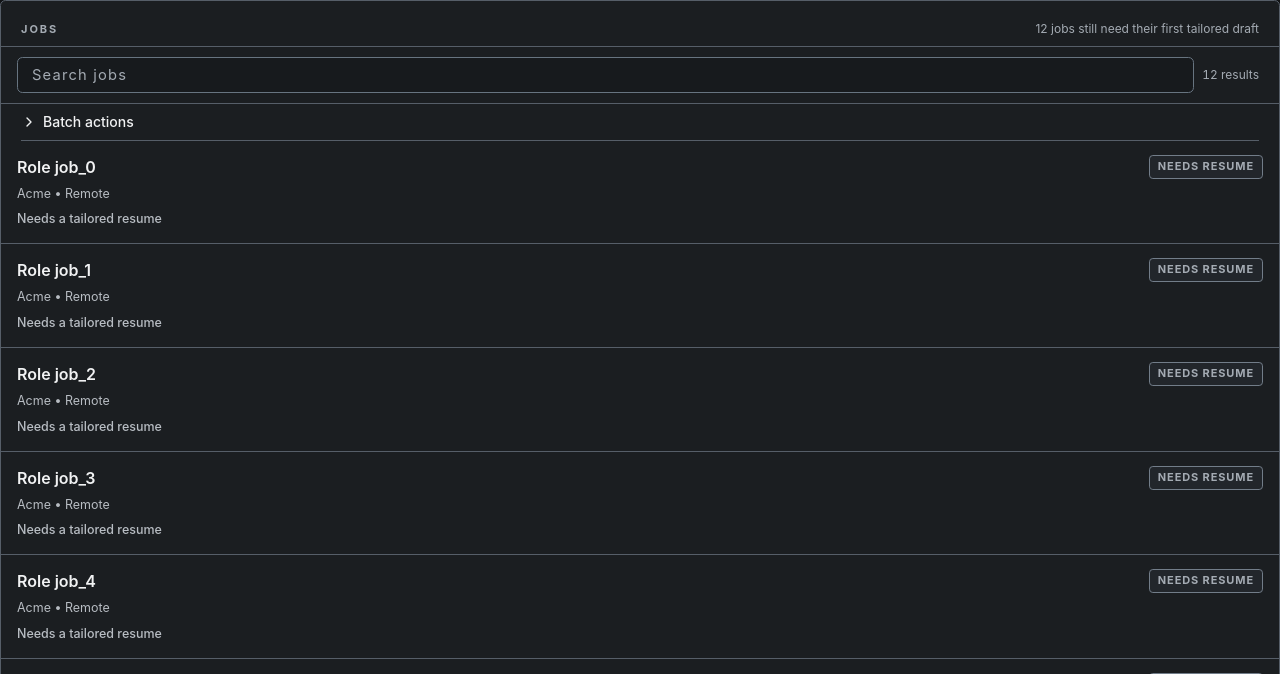
Test: ReviewQueueListPanel › discloses the ten-job batch cap and the list-order remainder before running
Click the heading "Batch actions" at x=77, y=121, box [21,112,134,130]
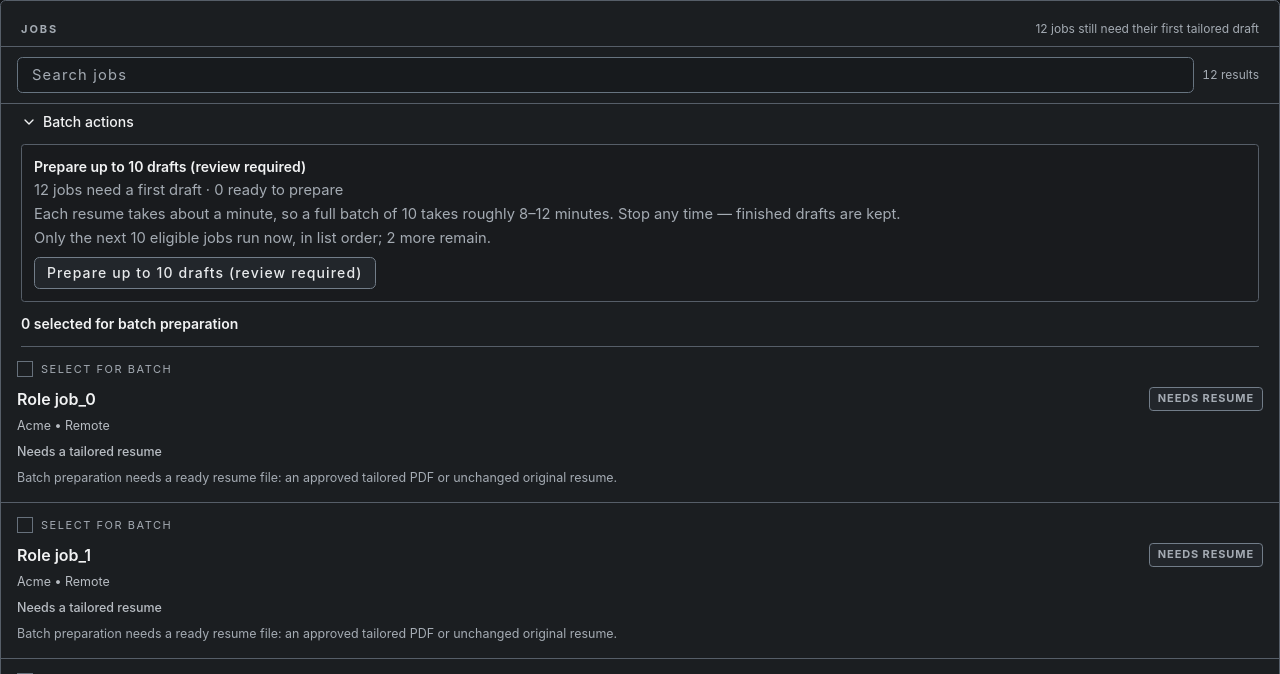
Now the text "12 jobs need a first draft · 0 ready to prepare" is shown, box [34,180,343,198]
Now the button "Prepare up to 10 drafts (review required)" is shown, box [34,257,376,289]
Now the text "2 more remain" is shown, box [34,229,491,247]
